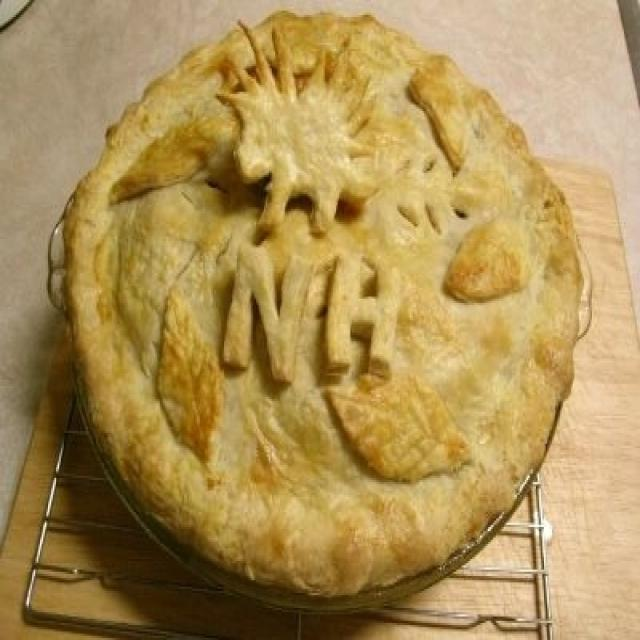Apple: (61, 2, 583, 597)
